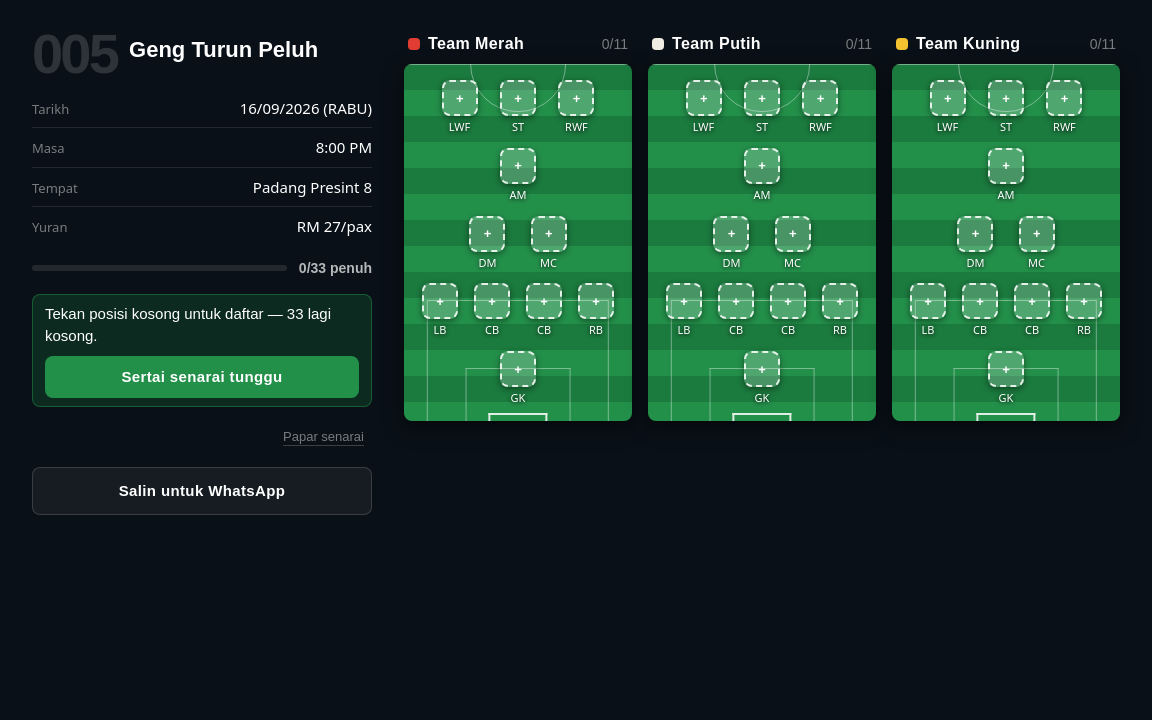
SessionPage › prefills a remembered name and phone the next time a sheet opens
Click the button "+ LB" below "Team Merah" at (440, 310), box [416,283,464,337]
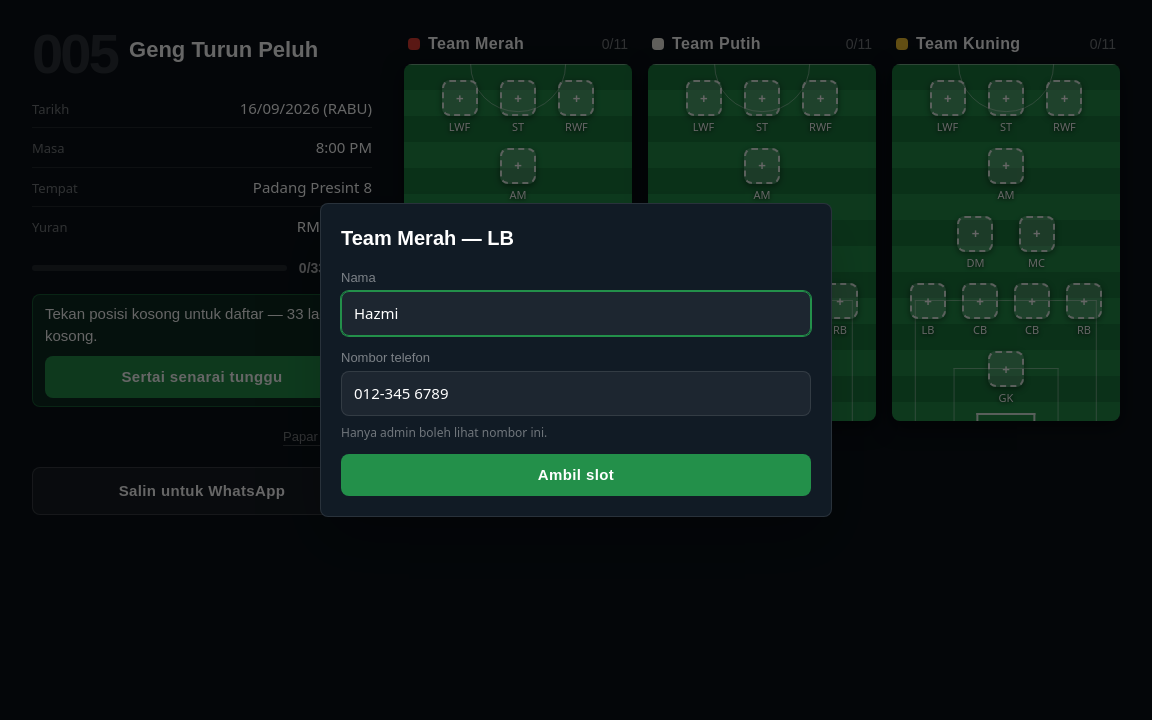
Expected: the field labelled "Nama" holds "Hazmi", [341,291,811,336]
Expected: the field labelled "Nombor telefon" holds "012-345 6789", [341,371,811,416]
